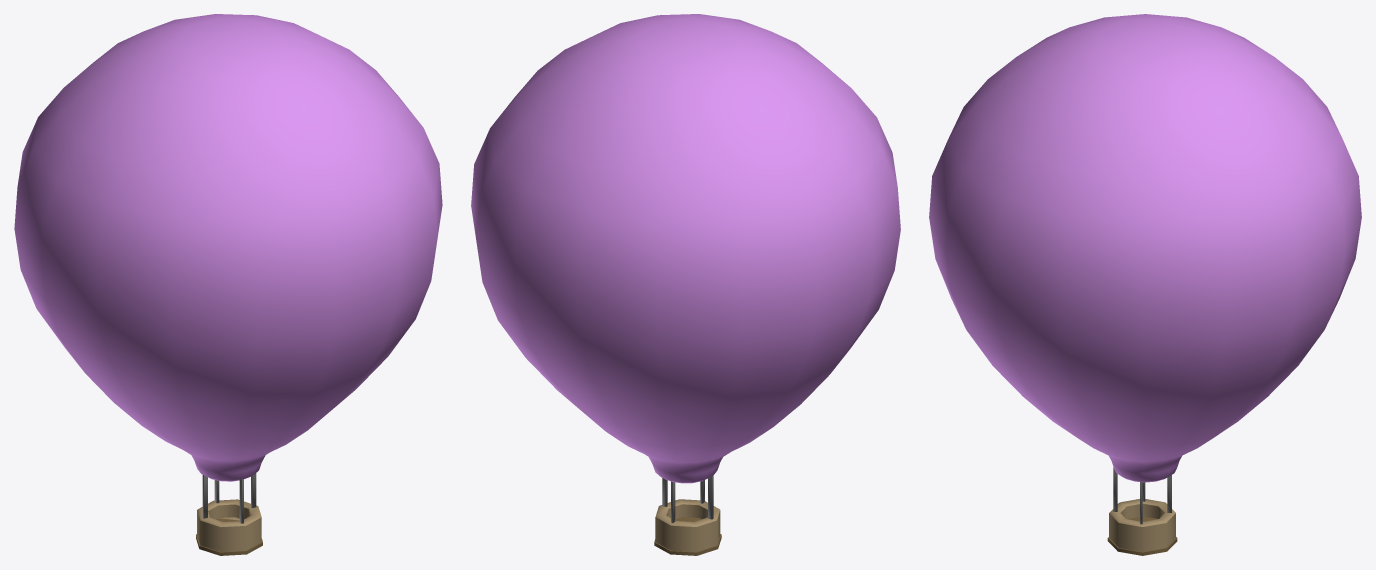
Rendered from HotAir_Balloon.fbx.
3 views of the same model, side by side, from view 1: azimuth 30°, elevation 25°; view 2: azimuth 150°, elevation 25°; view 3: azimuth 270°, elevation 25° (orthographic).
Parts seen in each view (by area): view 1: HotAir_Balloon; view 2: HotAir_Balloon; view 3: HotAir_Balloon.
Boxes of the visible parts, x1,y1,x2,y2 form: HotAir_Balloon: (14, 14, 442, 555); HotAir_Balloon: (471, 14, 900, 555); HotAir_Balloon: (929, 14, 1361, 555).
Bounding box in the file's own units: 10.32 × 13.32 × 10.32.
